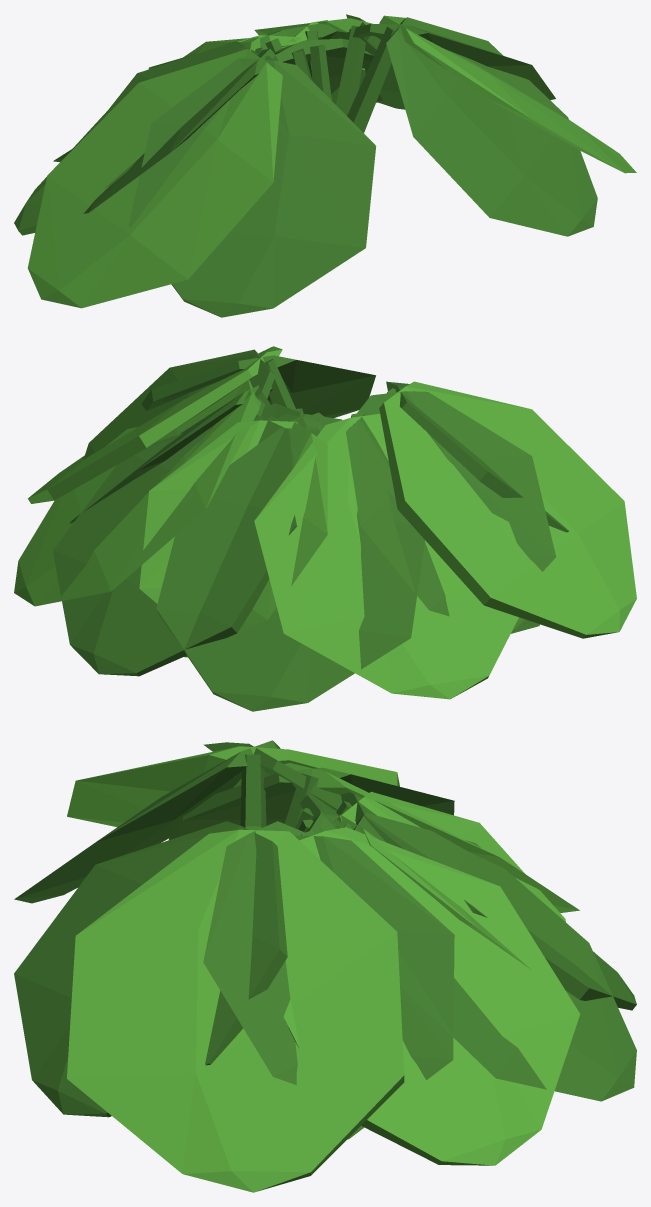
File: strawberry_2.gltf
3 renders of one model, top to bottom at view 1: azimuth 30°, elevation 25°; view 2: azimuth 150°, elevation 25°; view 3: azimuth 270°, elevation 25°, orthographic. The views are drawn at different scales.
Parts seen in each view (by area): view 1: strawberry_2; view 2: strawberry_2; view 3: strawberry_2.
Part boxes in pixels (x1,y1,x2,y2): strawberry_2: [14, 14, 636, 317]; strawberry_2: [14, 346, 636, 711]; strawberry_2: [14, 740, 636, 1192].
Bounding box in the file's own units: 0.3936 × 0.1341 × 0.2985.
